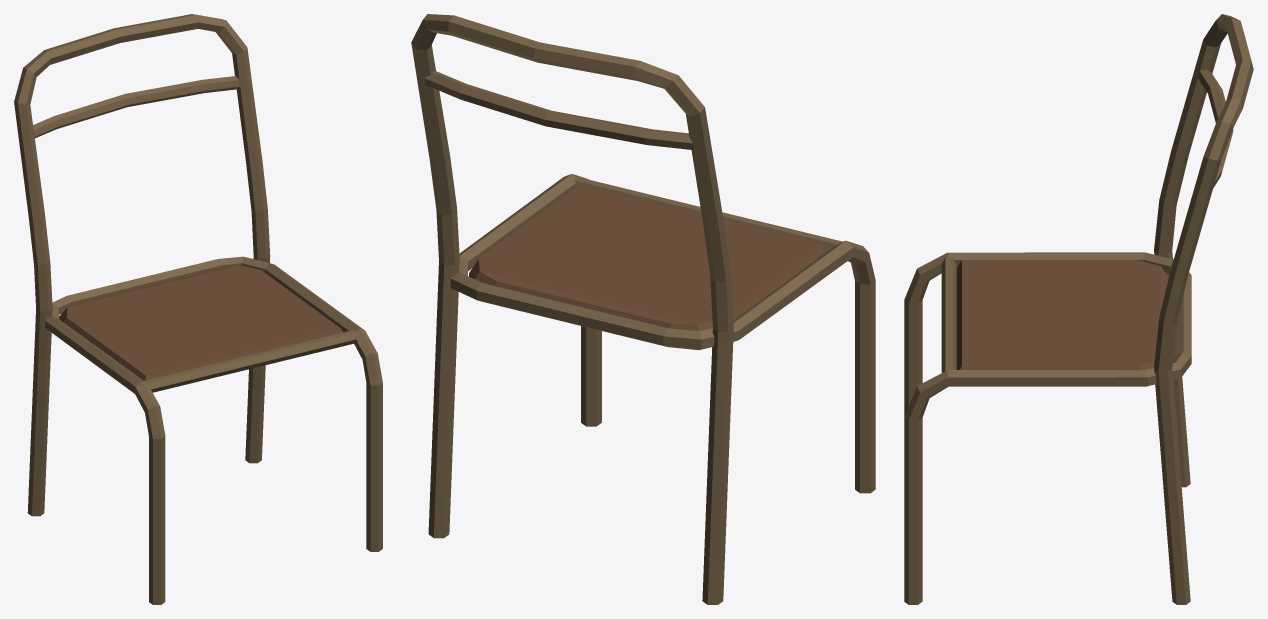
Rendered from SM_Prop_Chair_02_476.obj.
The picture shows the model from 3 angles, left to right: view 1: azimuth 30°, elevation 25°; view 2: azimuth 150°, elevation 25°; view 3: azimuth 270°, elevation 25°; orthographic projection. The views are drawn at different scales.
Parts seen in each view (by area): view 1: SM_Prop_Chair_02_0; view 2: SM_Prop_Chair_02_0; view 3: SM_Prop_Chair_02_0.
Boxes of the visible parts, x1,y1,x2,y2 form: SM_Prop_Chair_02_0: (14,14,382,604); SM_Prop_Chair_02_0: (411,14,875,604); SM_Prop_Chair_02_0: (904,14,1253,604).
Size of the model in its own units: 0.5265 by 0.9565 by 0.6258.
1 material, 1 textured.
